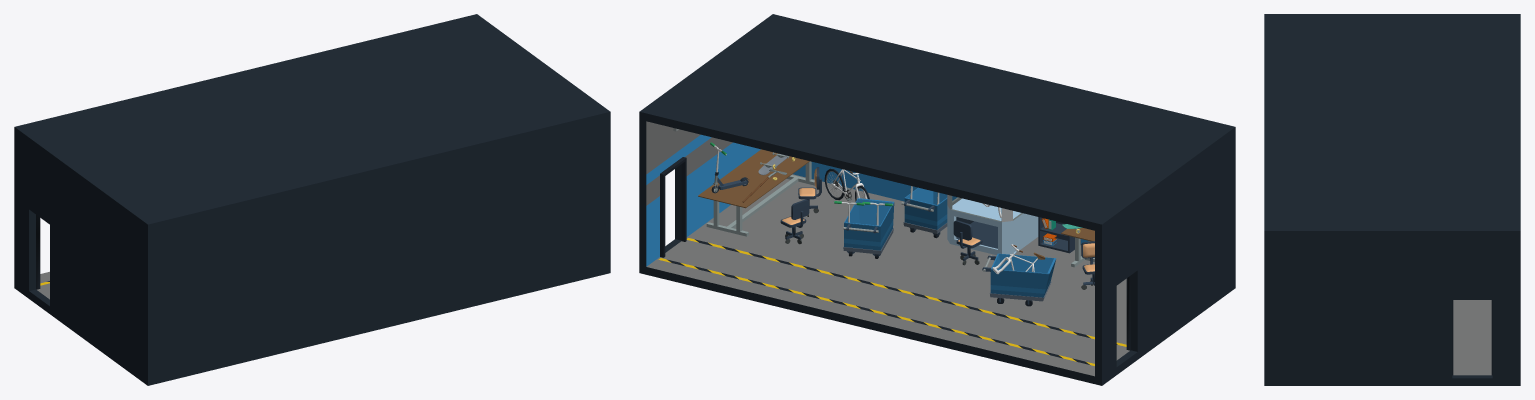
File: Room_assembling_001.fbx
3 views of the same model, side by side, from view 1: azimuth 30°, elevation 25°; view 2: azimuth 150°, elevation 25°; view 3: azimuth 270°, elevation 25° (orthographic). The views are drawn at different scales.
Parts seen in each view (by area): view 1: Room_large_001; view 2: Room_large_001; view 3: Room_large_001.
Boxes of the visible parts, x1=… form: Room_large_001: x1=14, y1=14, x2=610, y2=385; Room_large_001: x1=639, y1=14, x2=1235, y2=385; Room_large_001: x1=1264, y1=14, x2=1520, y2=385.
Bounding box in the file's own units: 1200 × 400 × 600.
